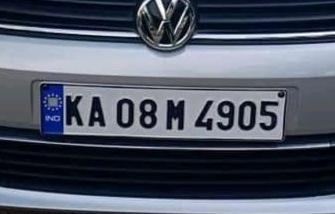0: (115, 93, 136, 132), (238, 97, 257, 135)
4: (194, 95, 215, 134)
5: (259, 97, 280, 135)
8: (135, 92, 161, 132)
9: (214, 97, 236, 132)
A: (85, 94, 108, 131)
K: (64, 92, 83, 129)
M: (163, 93, 188, 135)
